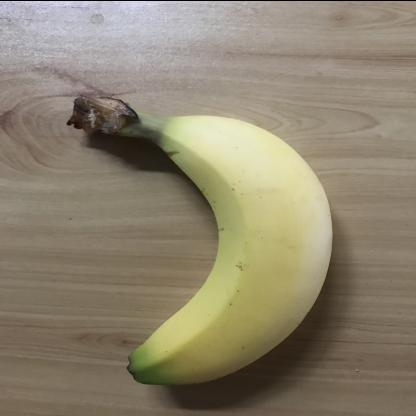banana: (63, 92, 336, 386)
